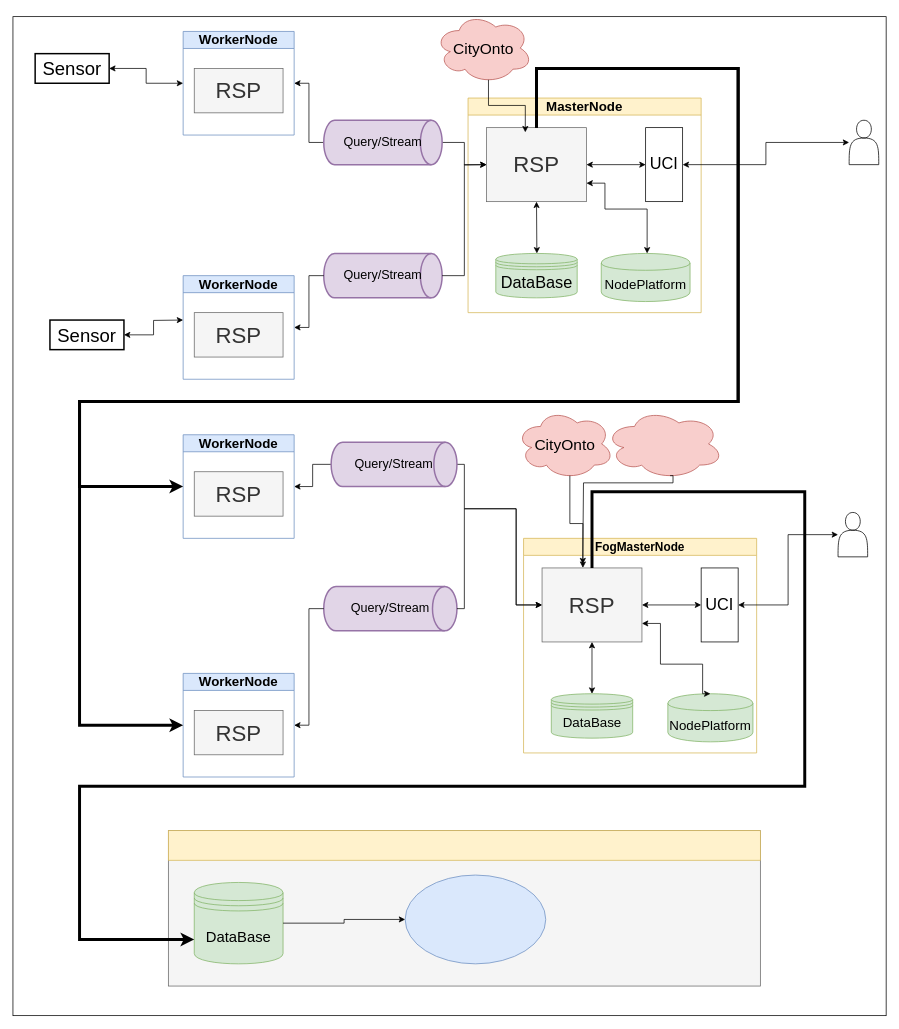
Image size: 899x1029. Some labels were removed from this diagram. The shapes that lost their labels are listed below. From the top down, each one's box as (x1, y1, x2, y2) in pixels, then its label:
(604, 408, 723, 479): ConceptOnto
(168, 830, 760, 860): Cloud Node
(404, 874, 546, 964): Big data Processing
